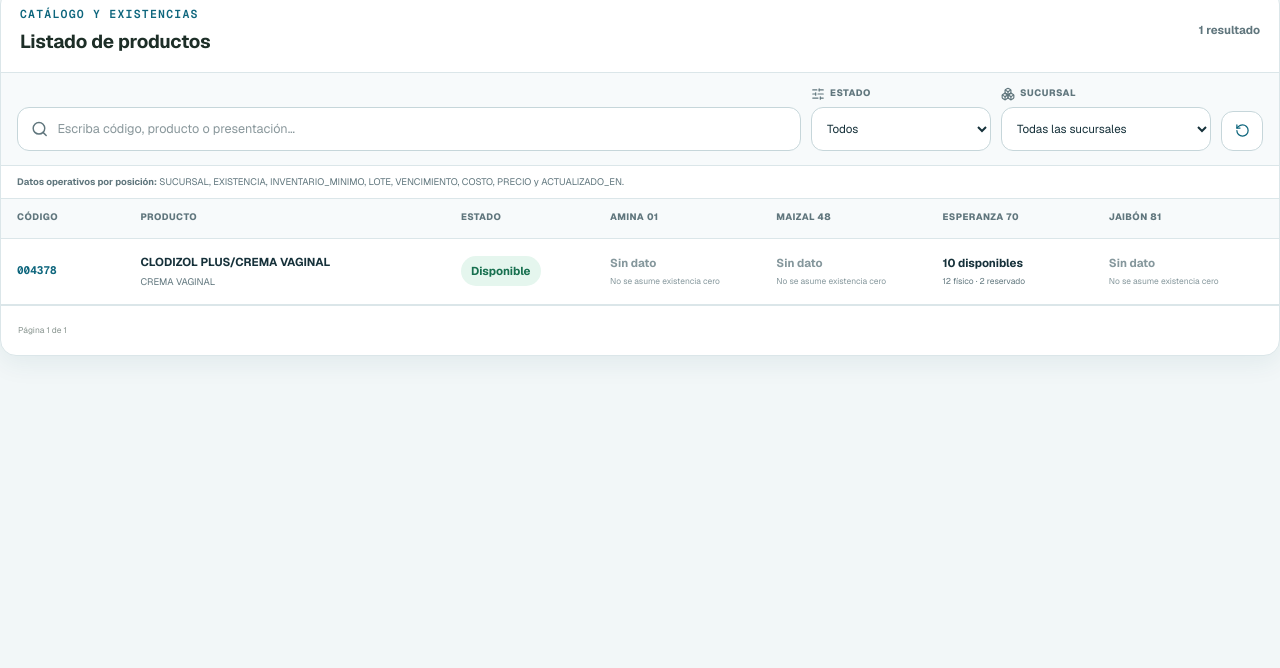
InventoryWorkspace › searches while typing without saving each query in browser history
Type "losartán 50" into the search field named "Buscar producto" at (422, 128), box [57,120,787,138]
Wait 350 ms
(page scrolled)
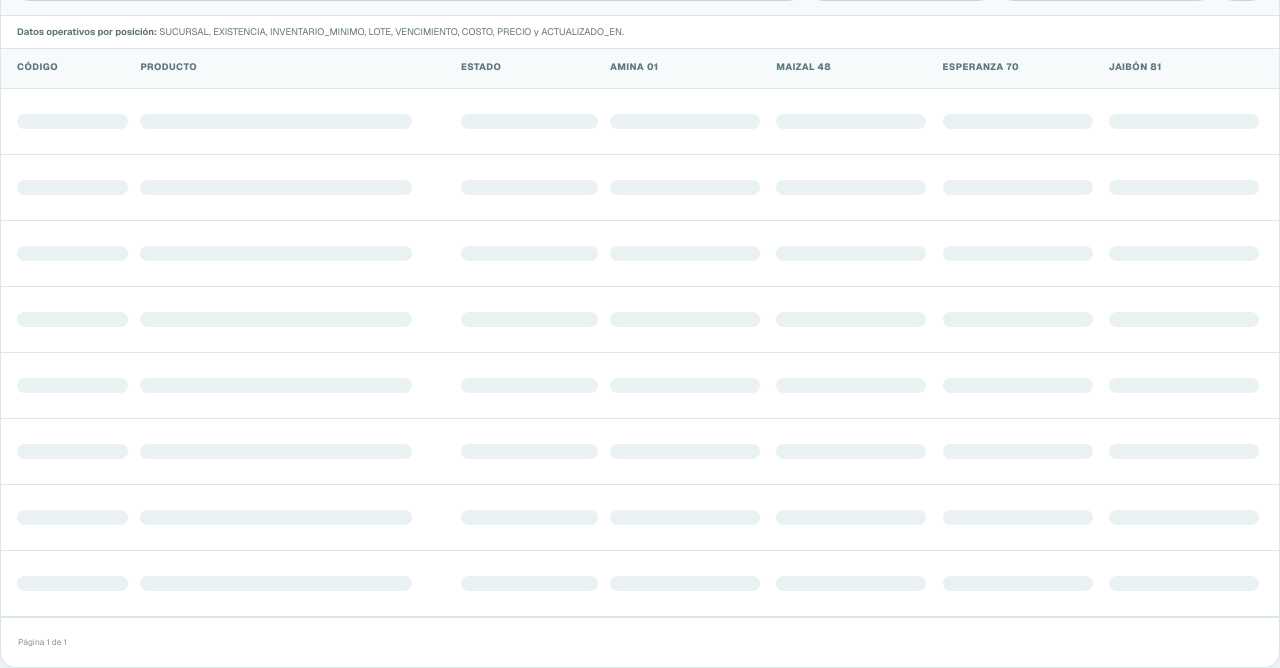
Check: the message named "Cargando productos" is shown
